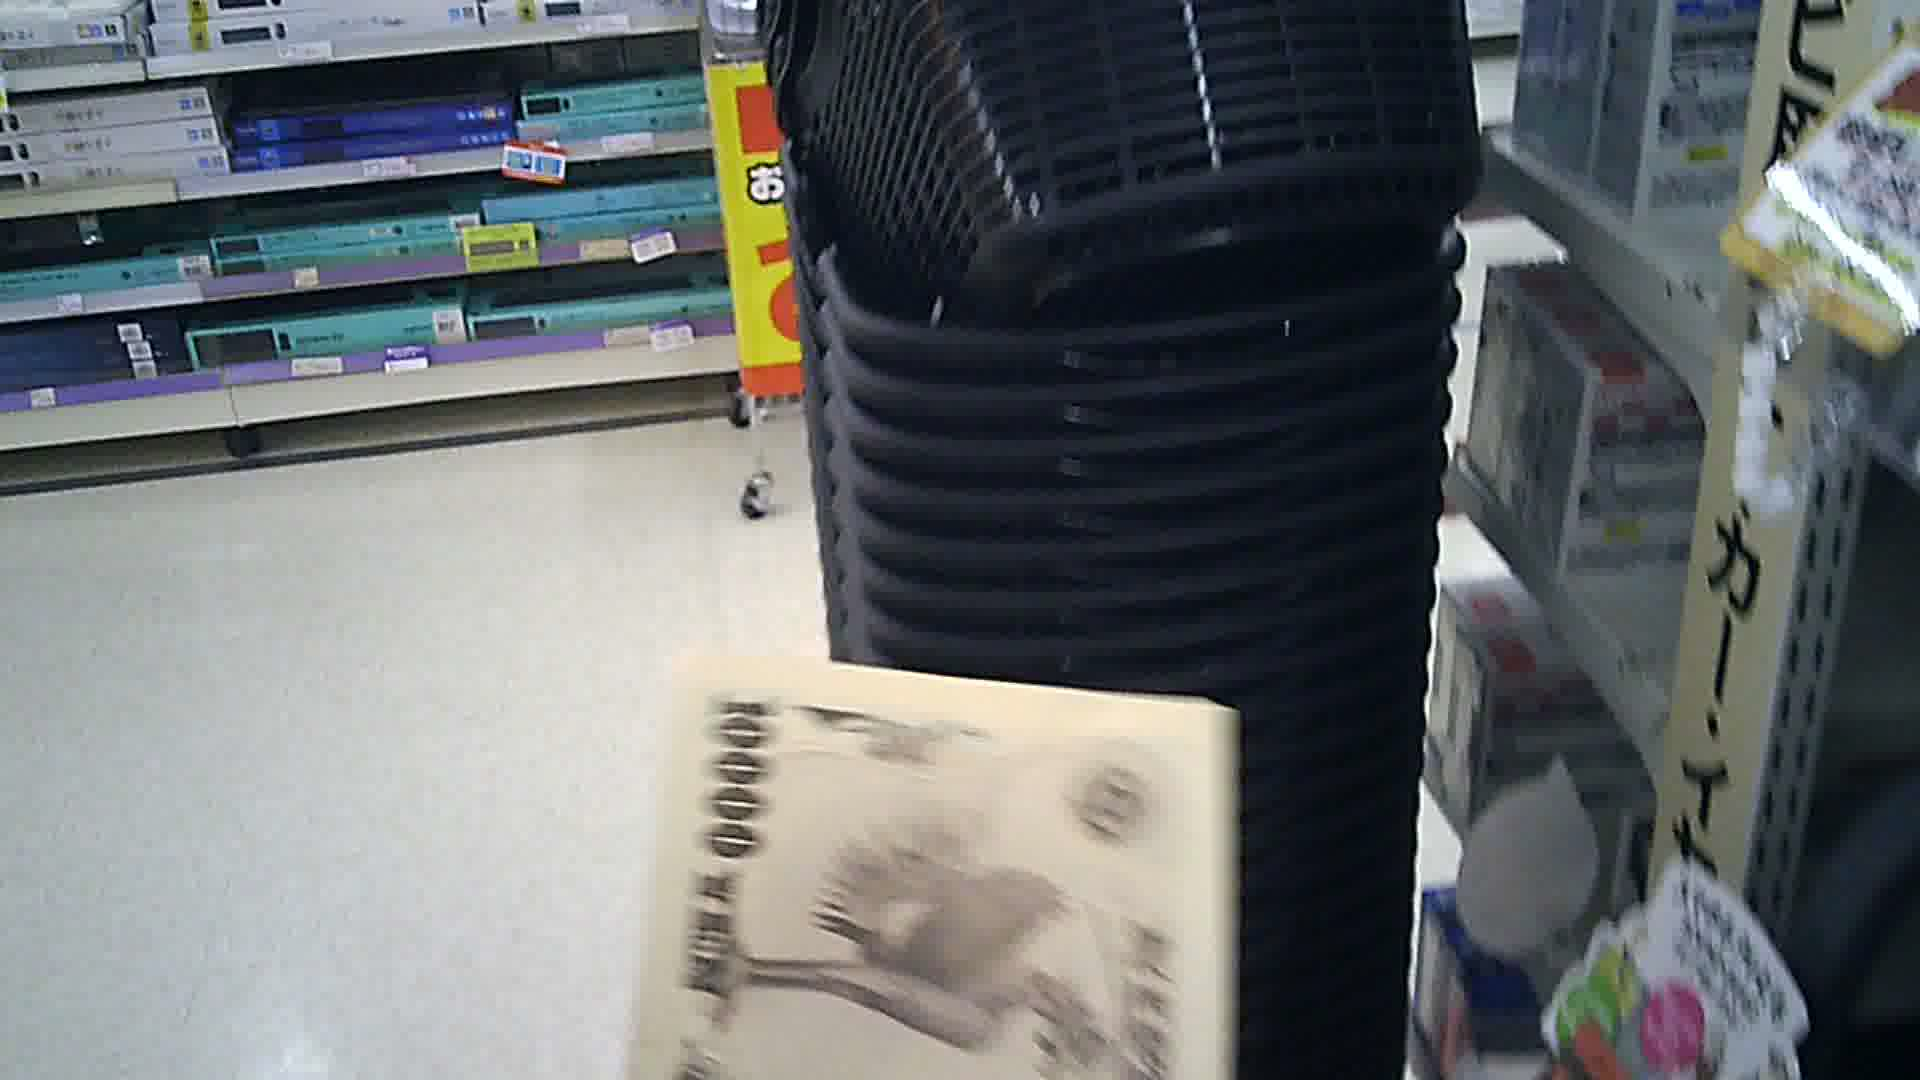10,000 Yen: (593, 655, 1258, 1079)
